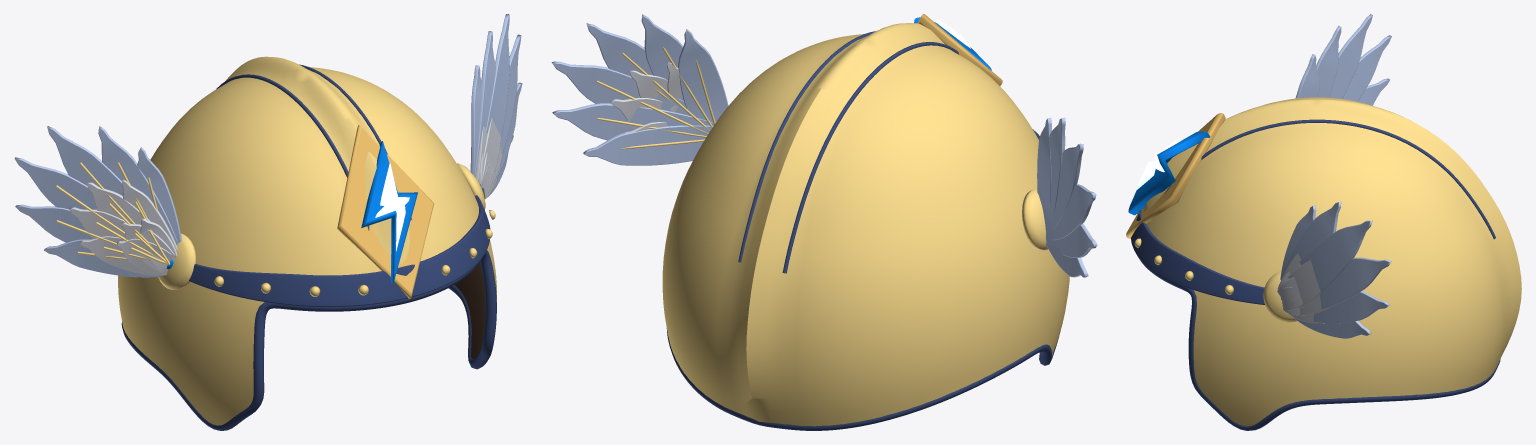
The model's file is thunder.glb.
3 views of the same model, side by side, from view 1: azimuth 30°, elevation 25°; view 2: azimuth 150°, elevation 25°; view 3: azimuth 270°, elevation 25° (orthographic). The views are drawn at different scales.
Visible parts, largest first — view 1: thunder_body, thunder_wing_L_mesh, thunder_wing_R_mesh, pulse_thunder_bolt; view 2: thunder_body, thunder_wing_R_mesh, thunder_wing_L_mesh; view 3: thunder_body, thunder_wing_R_mesh, thunder_wing_L_mesh, pulse_thunder_bolt.
Boxes of the visible parts, x1=… form: thunder_body: x1=118, y1=56, x2=496, y2=430; thunder_wing_L_mesh: x1=14, y1=126, x2=181, y2=277; thunder_wing_R_mesh: x1=470, y1=14, x2=522, y2=198; pulse_thunder_bolt: x1=375, y1=163, x2=409, y2=251; thunder_body: x1=662, y1=14, x2=1069, y2=430; thunder_wing_R_mesh: x1=551, y1=14, x2=728, y2=165; thunder_wing_L_mesh: x1=1037, y1=117, x2=1097, y2=277; thunder_body: x1=1126, y1=97, x2=1521, y2=430; thunder_wing_R_mesh: x1=1277, y1=201, x2=1391, y2=338; thunder_wing_L_mesh: x1=1295, y1=14, x2=1391, y2=105; pulse_thunder_bolt: x1=1135, y1=138, x2=1181, y2=190.
Size of the model in its own units: 2.12 by 1.19 by 1.56.
